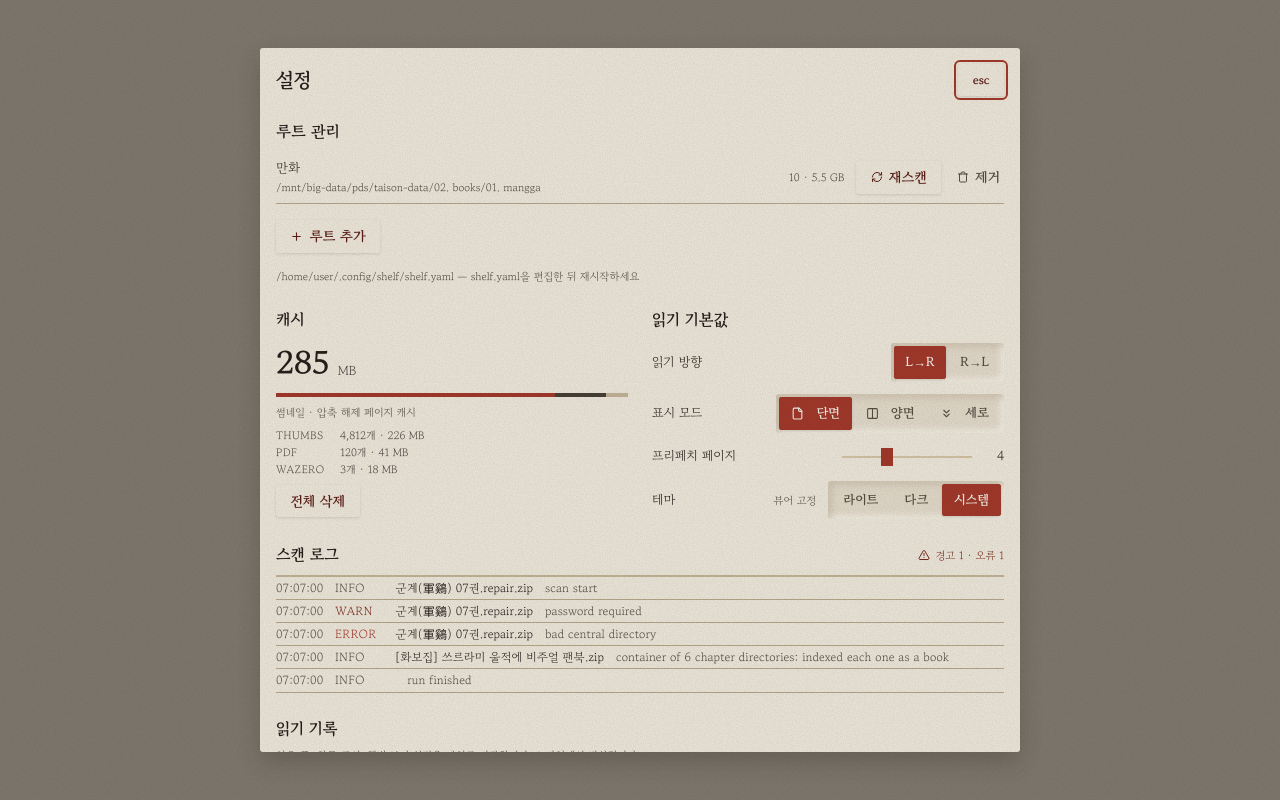
Scenario: 루트 추가/제거 (amendment A-11, ruling E-26) › adds a root through POST /api/roots and then shows the row the server reports
Check: the text "만화" is shown, box [276,158,300,177]
Click the button "루트 추가". click: (328, 236)
box: [276,220,380,253]
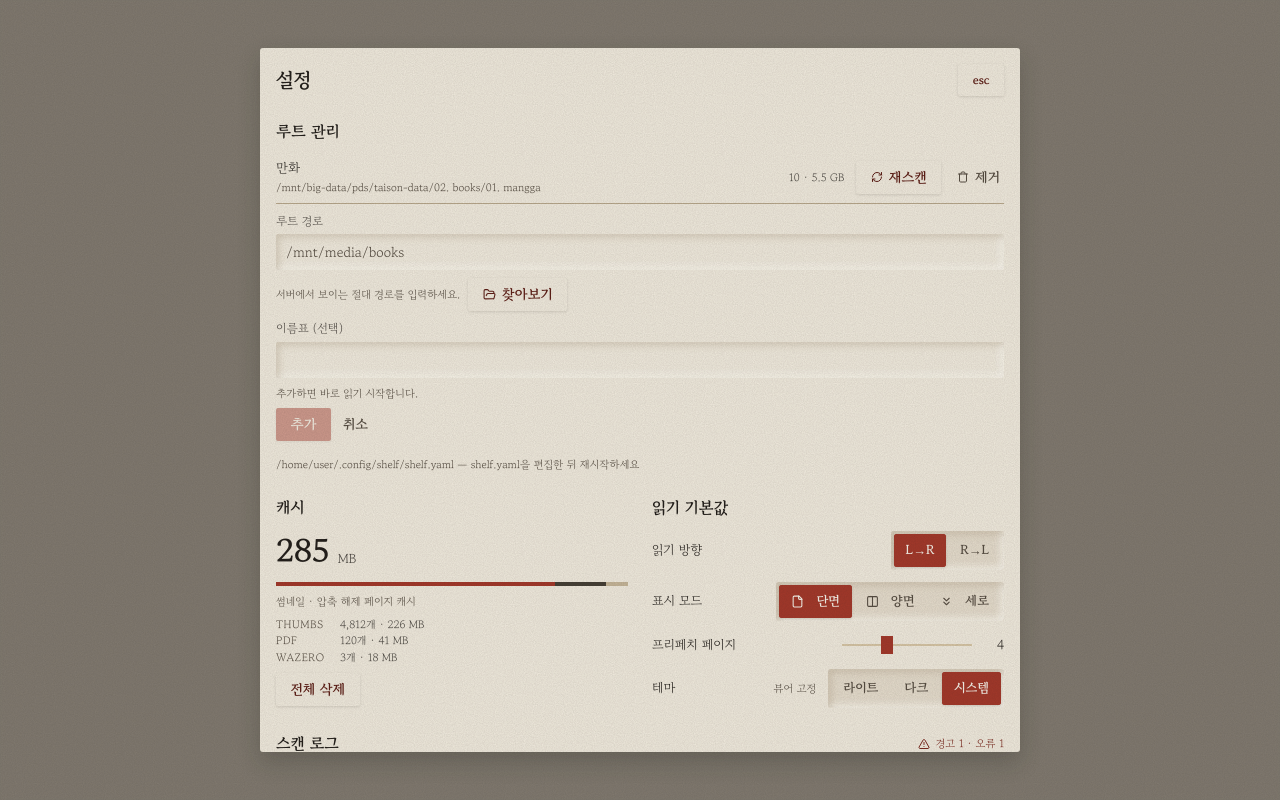
Type "/mnt/big-data/pds/taison-data/02. books/02. lanovel" into the field labelled "루트 경로". click: (640, 252)
box: [276,234,1004,270]
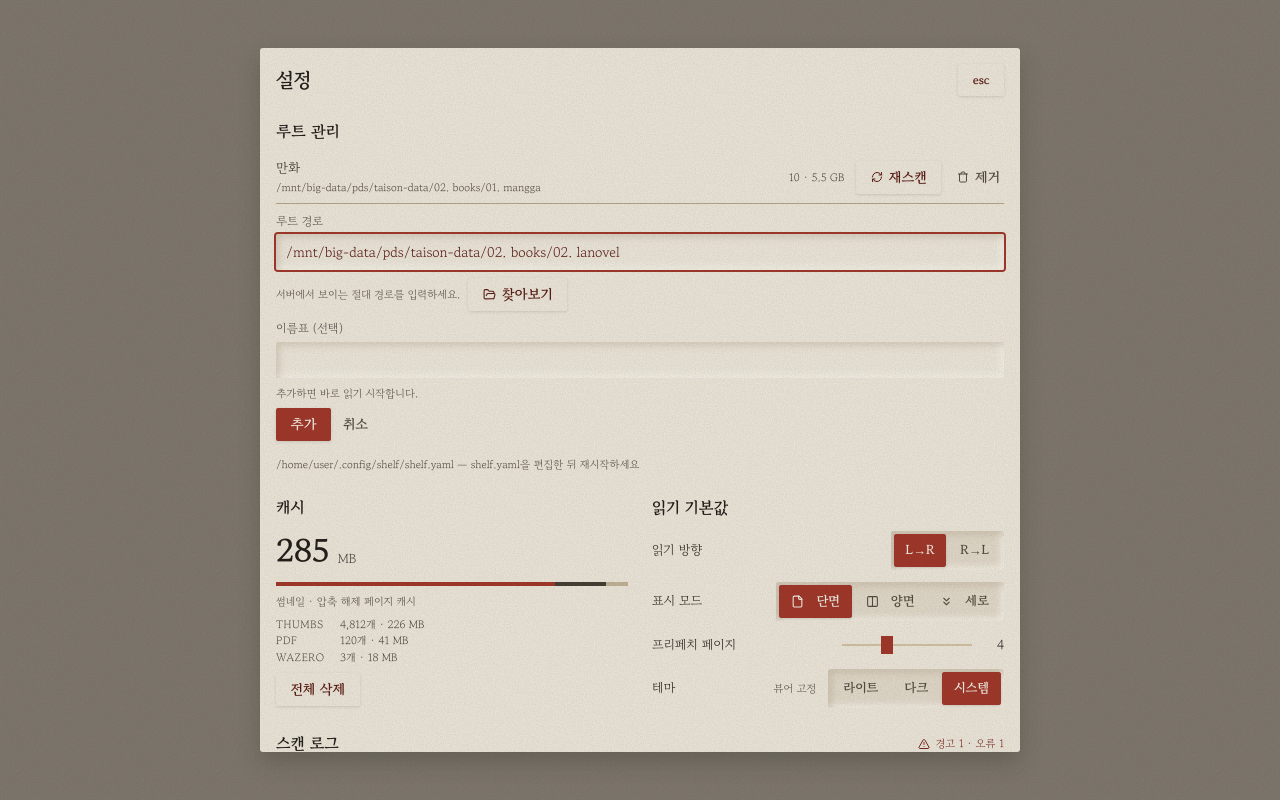
Type "02. lanovel" into the field labelled "이름표 (선택)". click: (640, 360)
box: [276,342,1004,378]
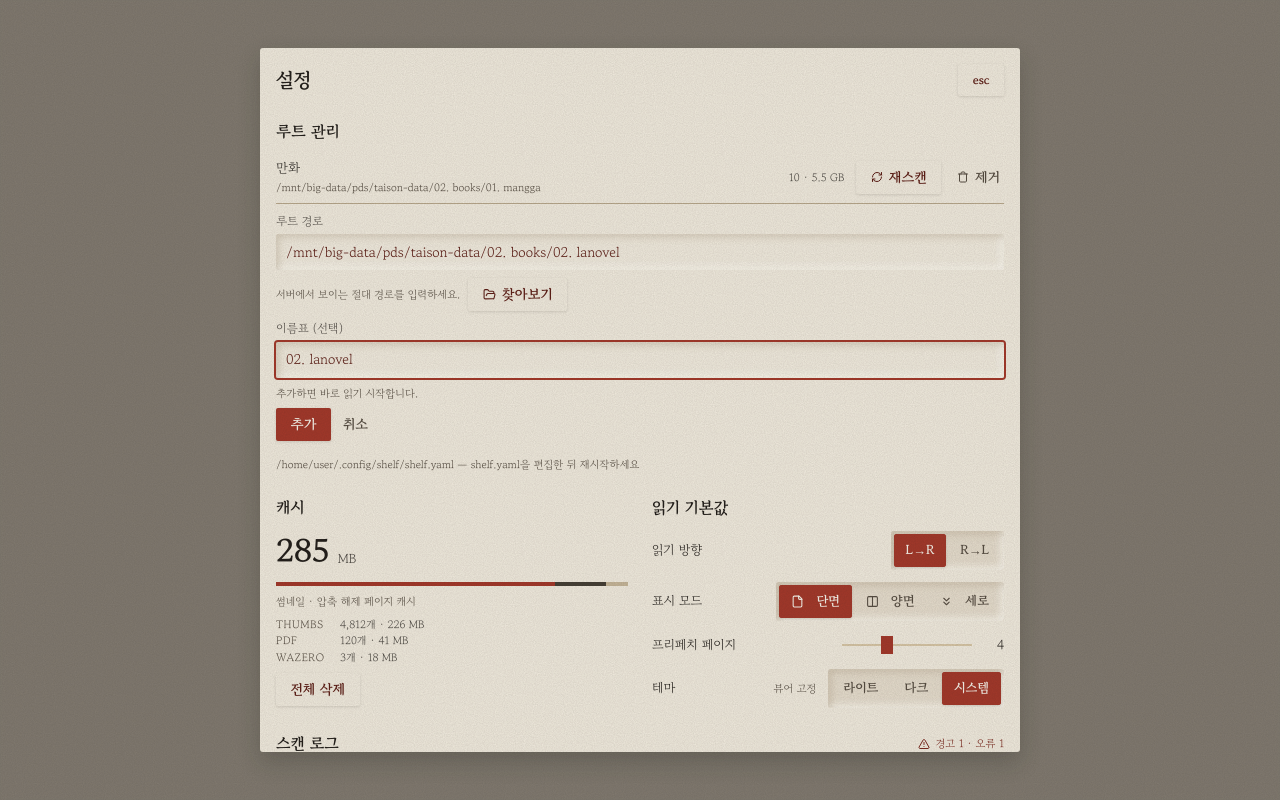
Click the button "추가". click: (304, 425)
box: [276,408,331,441]
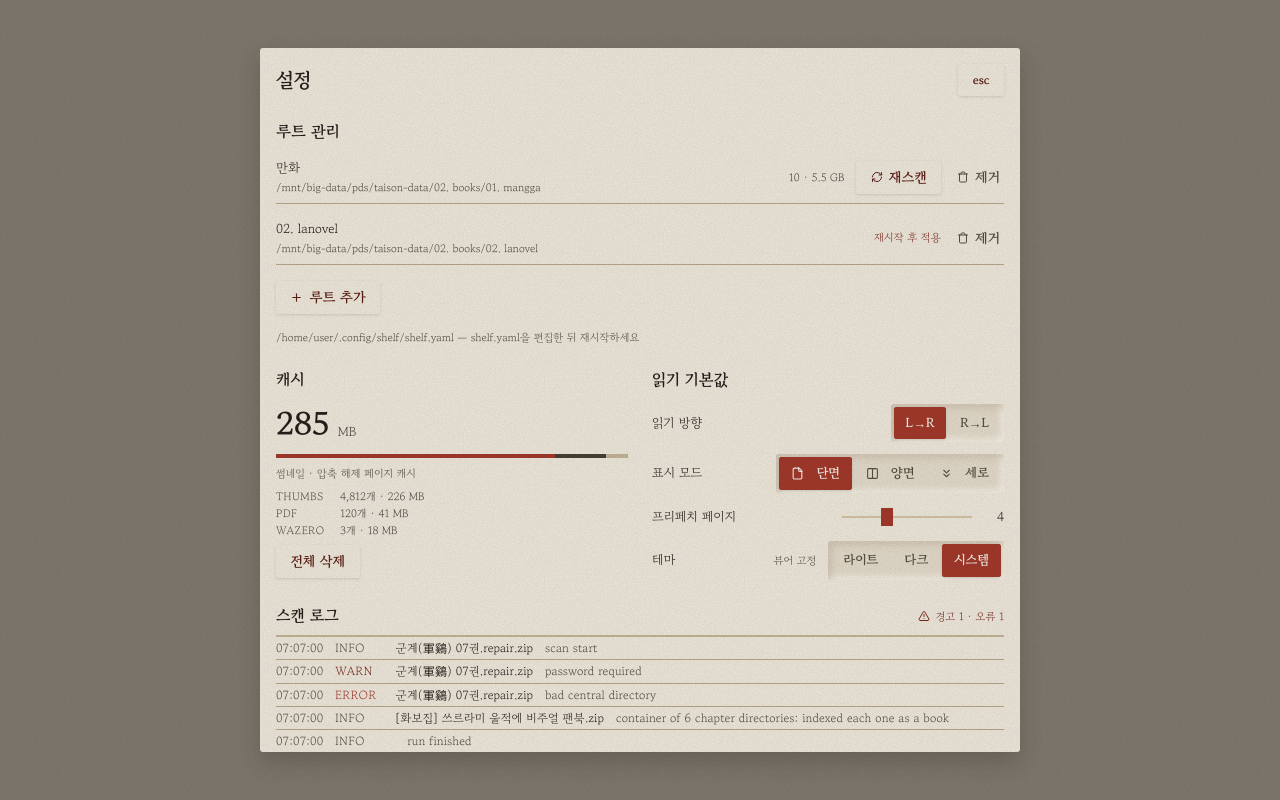
Check: the text "02. lanovel" is shown, box [276,219,338,238]
